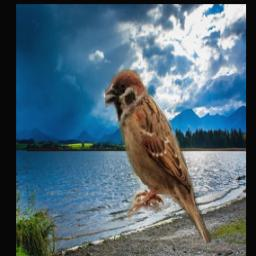Sparrow: (105, 70, 211, 244)
